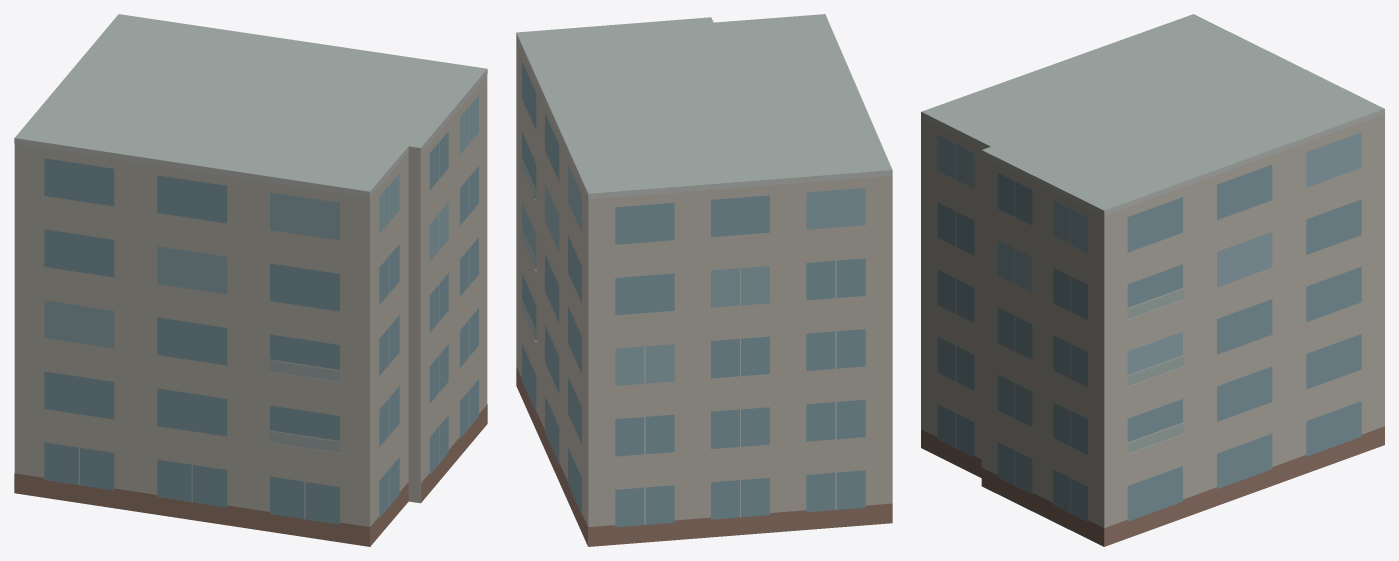
File: survey-upis-32668846.glb
3 renders of one model, left to right at view 1: azimuth 30°, elevation 25°; view 2: azimuth 150°, elevation 25°; view 3: azimuth 270°, elevation 25°, orthographic. The views are drawn at different scales.
Parts seen in each view (by area): view 1: survey-upis-32668846.tmp; view 2: survey-upis-32668846.tmp; view 3: survey-upis-32668846.tmp.
Boxes of the visible parts, <box> form: survey-upis-32668846.tmp: <box>14,14,487,546</box>; survey-upis-32668846.tmp: <box>516,14,892,546</box>; survey-upis-32668846.tmp: <box>921,14,1384,546</box>.
Bounding box in the file's own units: 19.02 × 15.16 × 18.96.
